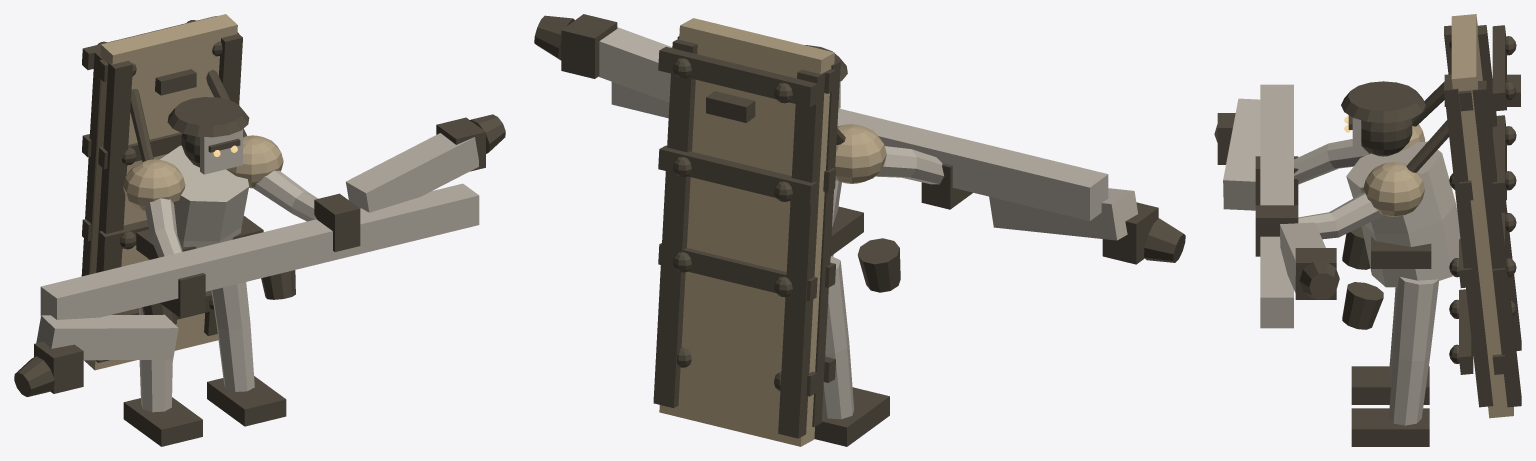
Rendered from porter.glb.
3 views of the same model, side by side, from view 1: azimuth 30°, elevation 25°; view 2: azimuth 150°, elevation 25°; view 3: azimuth 270°, elevation 25° (orthographic). The views are drawn at different scales.
Parts seen in each view (by area): view 1: porter_bone, porter_dark, porter_body; view 2: porter_dark, porter_body, porter_bone; view 3: porter_dark, porter_bone, porter_body.
Boxes of the visible parts, <box> form: porter_bone: <box>36,129,479,412</box>; porter_dark: <box>14,16,505,446</box>; porter_body: <box>84,14,283,370</box>; porter_dark: <box>534,14,1185,446</box>; porter_body: <box>659,18,886,446</box>; porter_bone: <box>598,27,1137,419</box>; porter_dark: <box>1214,25,1521,446</box>; porter_bone: <box>1223,84,1460,425</box>; porter_body: <box>1363,14,1513,418</box>.
Bounding box in the file's own units: 3.52 × 2.3 × 1.73.
